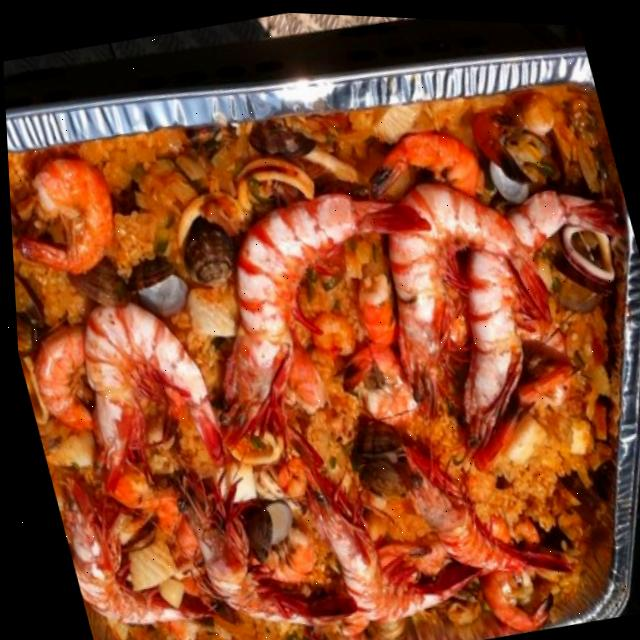汉堡快餐: (0, 0, 628, 640)
